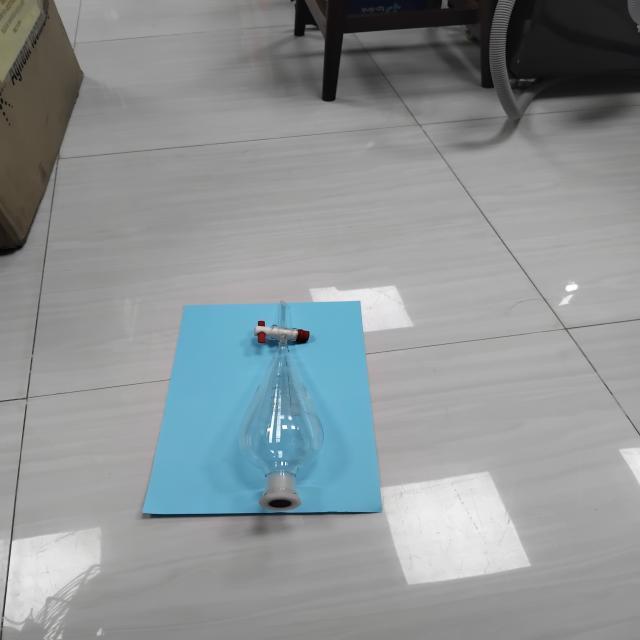Separating_Funnel: (228, 275, 335, 529)
